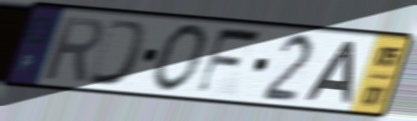2: (258, 31, 316, 106)
A: (302, 39, 356, 107)
D: (83, 16, 152, 89)
F: (192, 25, 266, 98)
O: (150, 21, 213, 95)
R: (41, 13, 107, 84)
